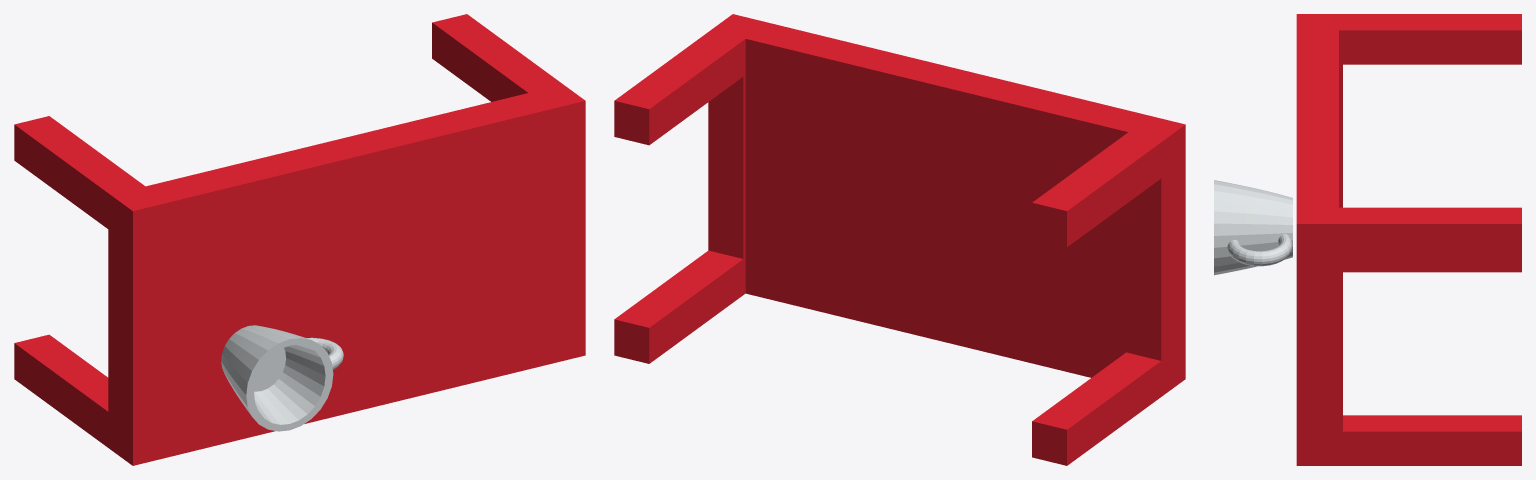
Rendered from tinker.obj.
The picture shows the model from 3 angles, left to right: view 1: azimuth 30°, elevation 25°; view 2: azimuth 150°, elevation 25°; view 3: azimuth 270°, elevation 25°; orthographic projection. The views are drawn at different scales.
Visible parts, largest first — view 1: group_0_15277357, group_0_14541540; view 2: group_0_15277357; view 3: group_0_15277357, group_0_14541540.
Part boxes in pixels (left/top/right/bottom): group_0_15277357: left=14, top=14, right=585, bottom=465; group_0_14541540: left=221, top=325, right=343, bottom=431; group_0_15277357: left=614, top=14, right=1185, bottom=465; group_0_15277357: left=1296, top=14, right=1521, bottom=465; group_0_14541540: left=1214, top=180, right=1292, bottom=275.
Size of the model in its own units: 119 by 64.23 by 74.
